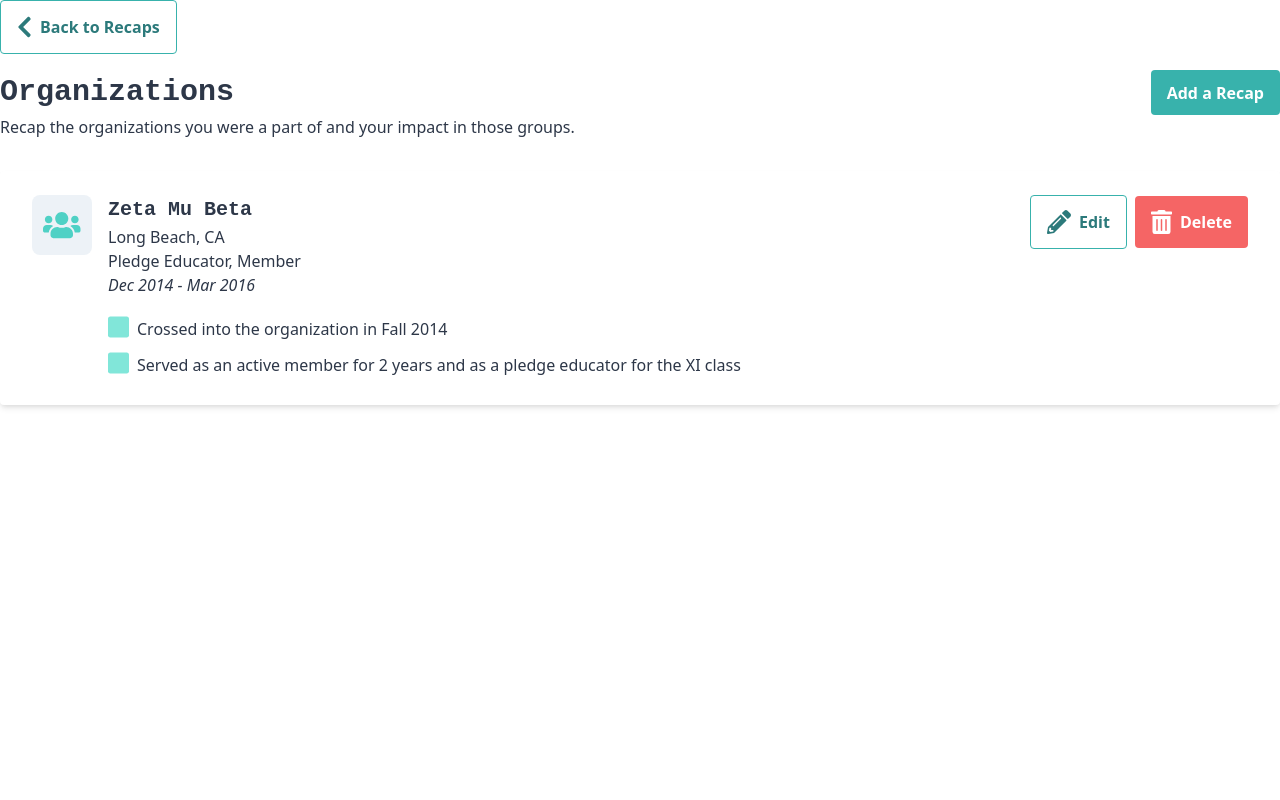
Test: <OrganizationsLayout /> › should show the success alert after deleting a recap successfully
Click the button "Delete".
click(1192, 222)  # box x1=1135 y1=196 x2=1248 y2=248
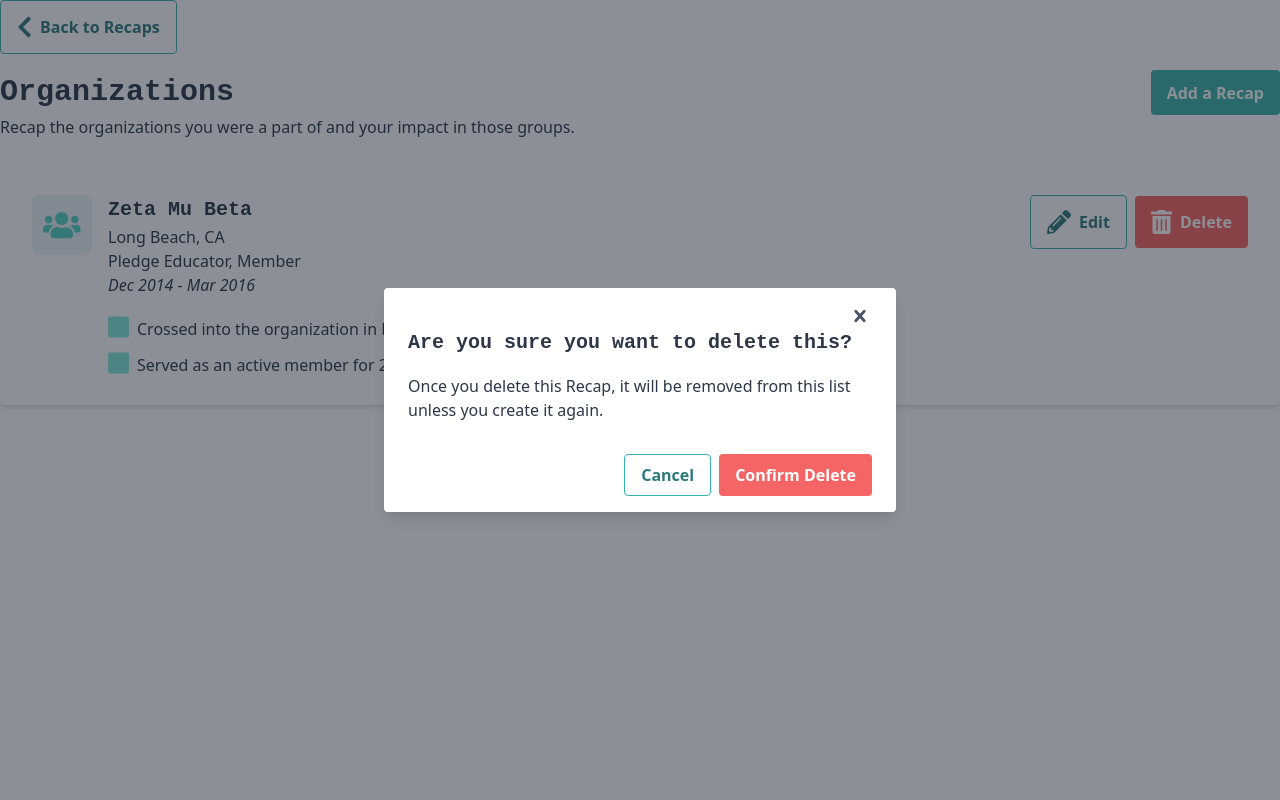
Expected: the heading "Are you sure you want to delete this?" is shown, x1=408 y1=328 x2=872 y2=358
Click the button "Confirm Delete".
click(796, 475)  # box x1=719 y1=454 x2=872 y2=496
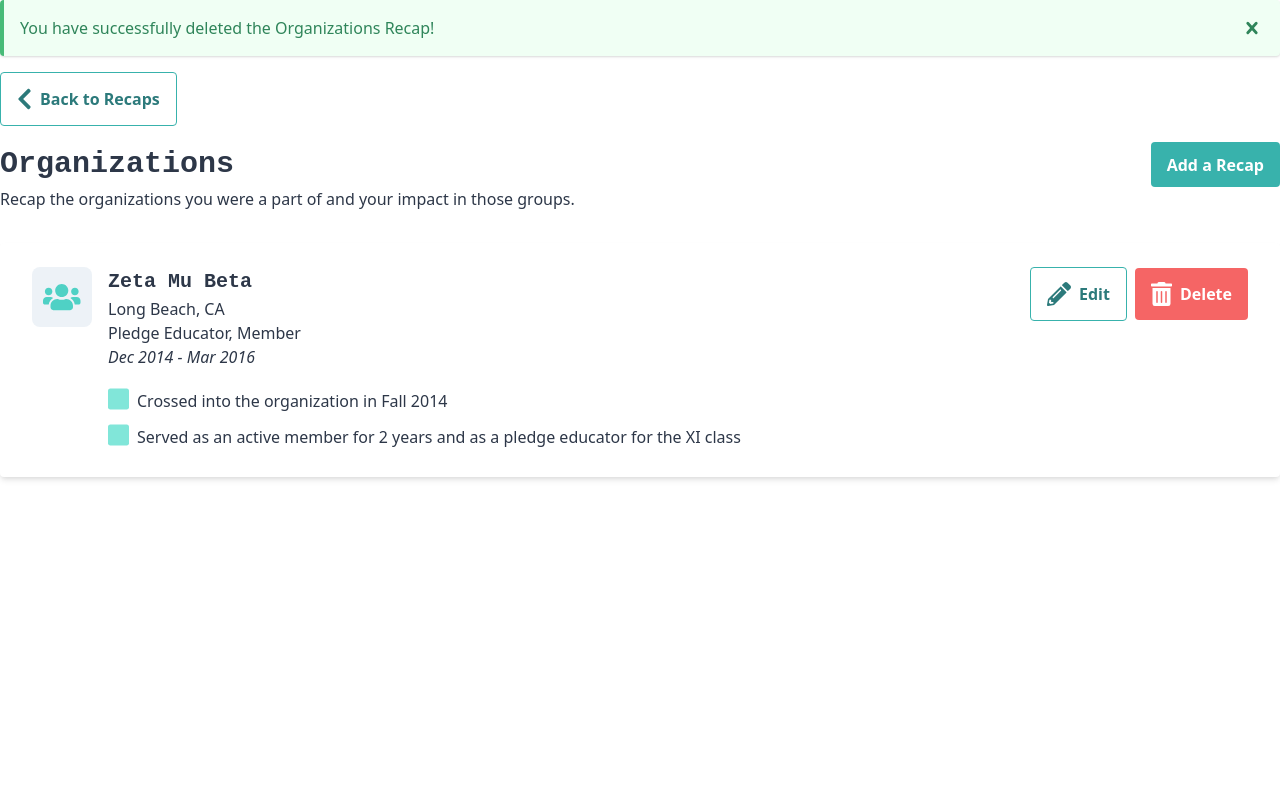
Expected: the heading "Are you sure you want to delete this?" is gone
Expected: the text "You have successfully deleted the Organizations Recap!" is shown, x1=20 y1=17 x2=434 y2=39
